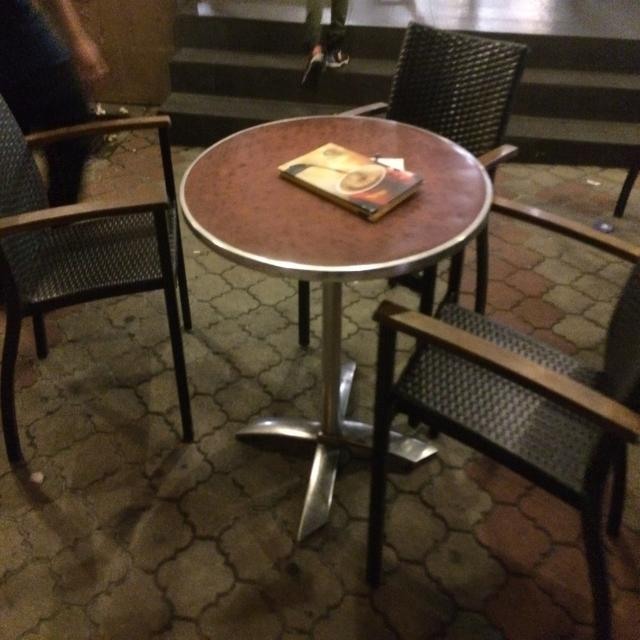Table: (205, 95, 509, 363)
chair: (370, 202, 640, 609), (0, 85, 186, 430), (390, 16, 531, 239)
